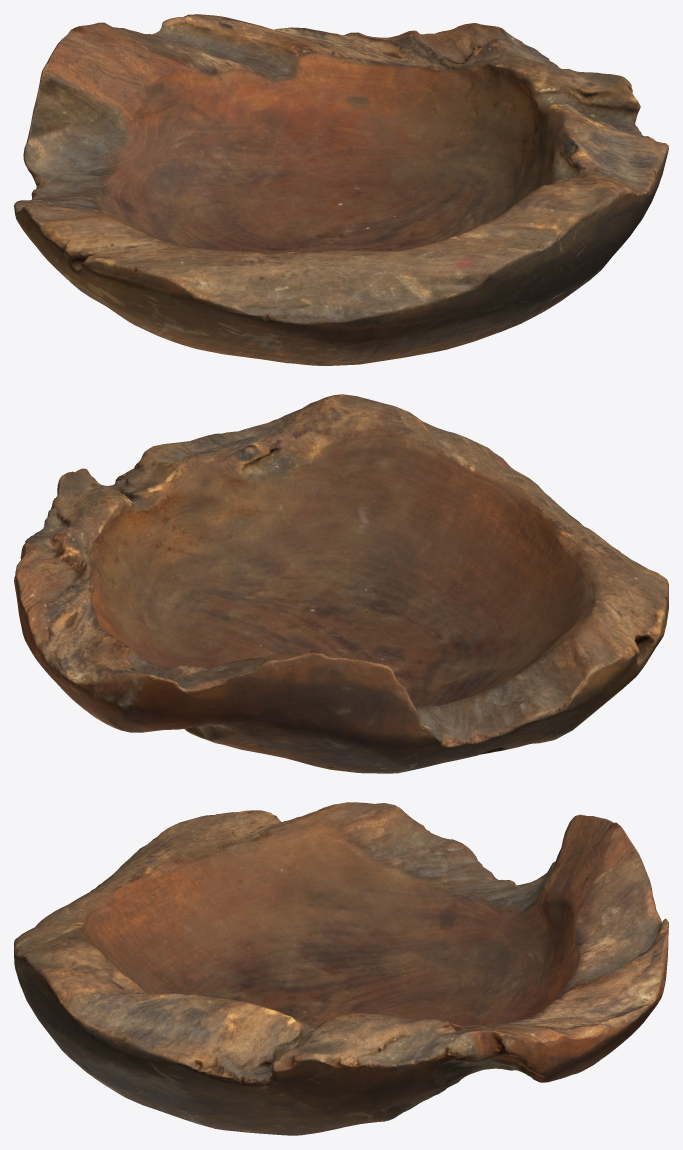
The model's file is wooden_bowl_01.glb.
3 views of the same model, one above another, from view 1: azimuth 30°, elevation 25°; view 2: azimuth 150°, elevation 25°; view 3: azimuth 270°, elevation 25° (orthographic). The views are drawn at different scales.
Parts seen in each view (by area): view 1: wooden_bowl_01; view 2: wooden_bowl_01; view 3: wooden_bowl_01.
Boxes of the visible parts, x1,y1,x2,y2 form: wooden_bowl_01: (14,14,668,365); wooden_bowl_01: (14,394,668,773); wooden_bowl_01: (14,802,668,1135).
Size of the model in its own units: 0.3131 by 0.0937 by 0.3091.
Materials: 1 (1 with a texture image).
